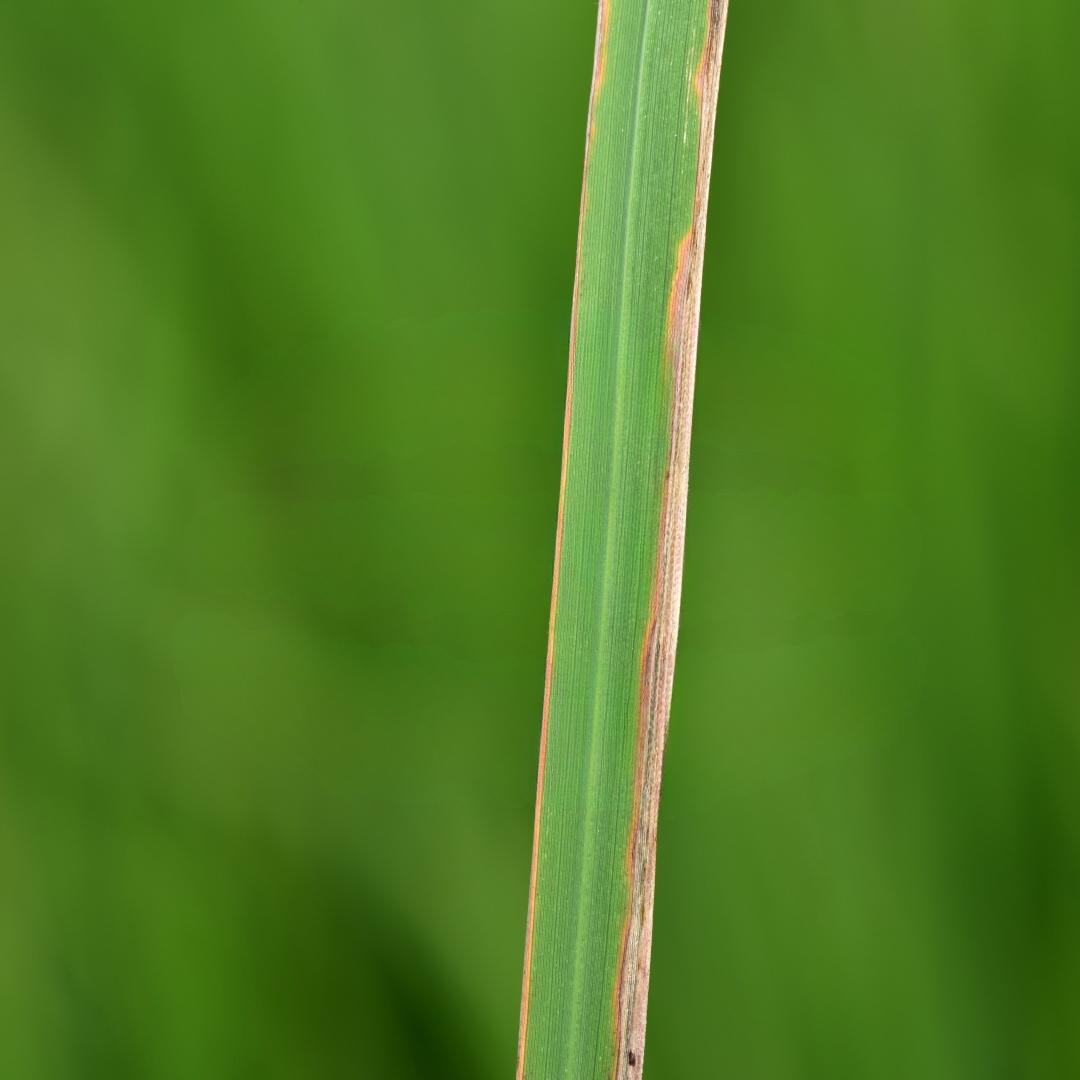BLB: (611, 1, 728, 1079)
LEAF: (516, 0, 727, 1079)
